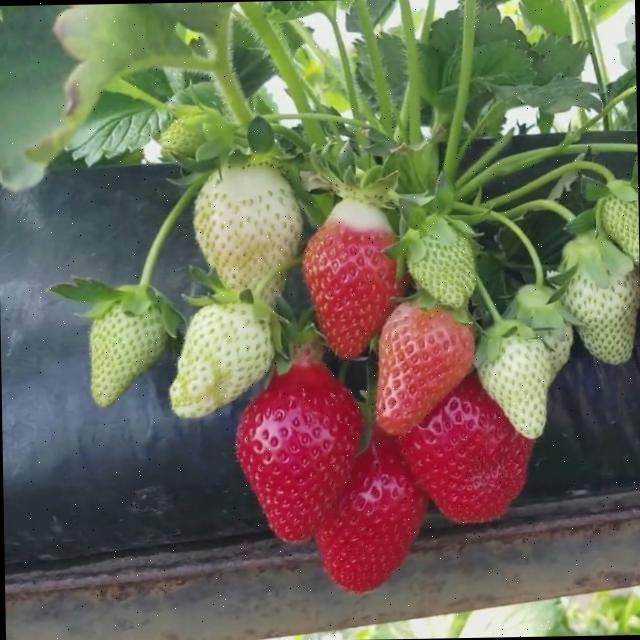Ripe Strawberry: (229, 341, 370, 550), (305, 418, 440, 595), (394, 356, 536, 524), (301, 181, 408, 362)
